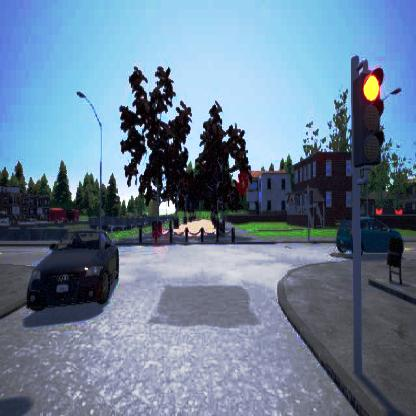vehicle: (25, 228, 118, 311), (335, 215, 402, 255)
